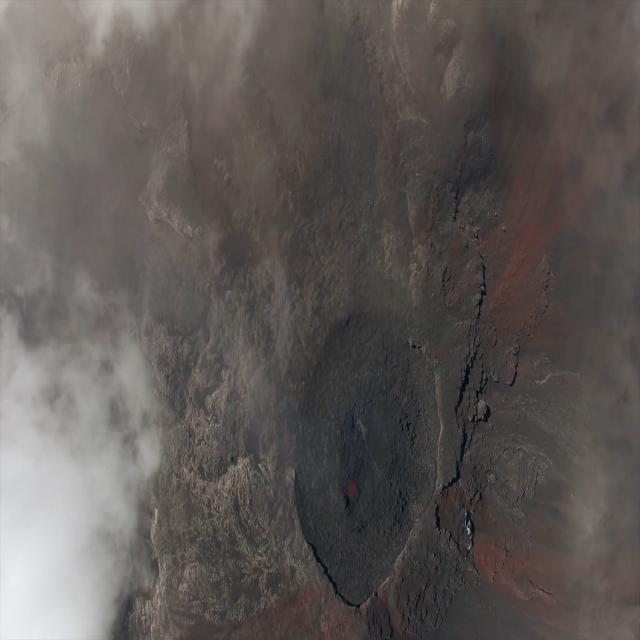Summit: (254, 257, 483, 640)
